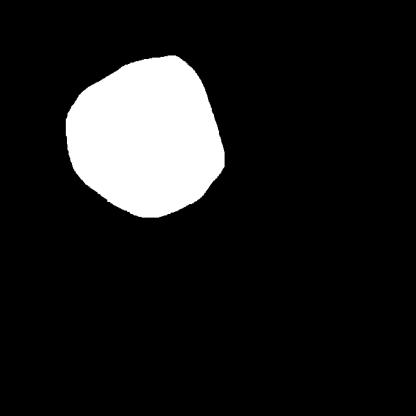benign: (56, 47, 254, 232)
